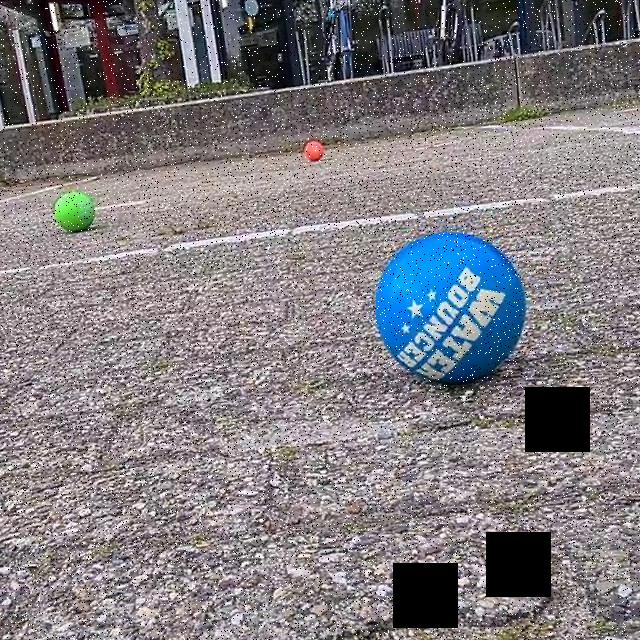ball: (52, 189, 98, 233), (299, 135, 328, 166)
